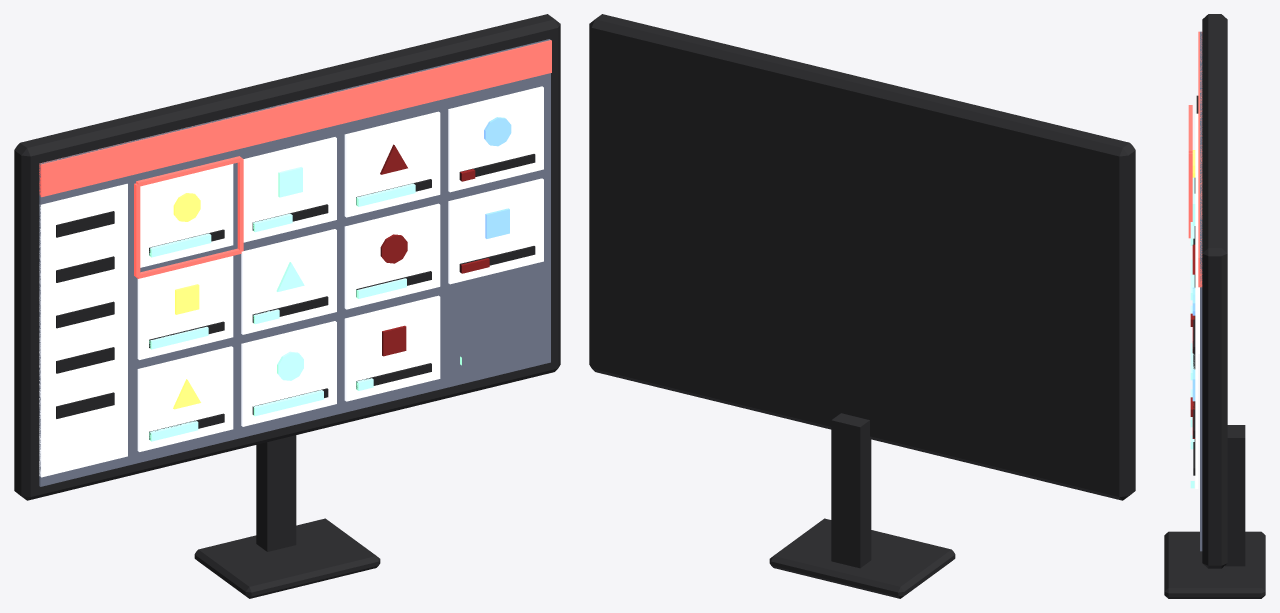
File: kitchenapp.glb
3 views of the same model, side by side, from view 1: azimuth 30°, elevation 25°; view 2: azimuth 150°, elevation 25°; view 3: azimuth 270°, elevation 25° (orthographic). The views are drawn at different scales.
Parts seen in each view (by area): view 1: stock_monitor, stock_card_10, stock_card_3, stock_card_5, stock_card_7, stock_card_6, stock_card_8, stock_card_2, stock_card_1, stock_card_4, stock_card_9, stock_card_0 (+2 smaller); view 2: stock_monitor; view 3: stock_monitor, stock_select, stock_card_3, stock_card_7, stock_card_1, stock_card_2, stock_card_0, stock_card_10.
Boxes of the visible parts, bbox=[...] form: stock_monitor: bbox=[14, 14, 560, 598]; stock_card_10: bbox=[344, 295, 440, 401]; stock_card_3: bbox=[448, 86, 543, 192]; stock_card_5: bbox=[241, 229, 336, 334]; stock_card_7: bbox=[448, 178, 543, 284]; stock_card_6: bbox=[344, 203, 440, 309]; stock_card_8: bbox=[137, 346, 233, 451]; stock_card_2: bbox=[344, 111, 440, 217]; stock_card_1: bbox=[243, 137, 336, 242]; stock_card_4: bbox=[137, 256, 233, 359]; stock_card_9: bbox=[241, 321, 336, 426]; stock_card_0: bbox=[140, 164, 233, 267]; stock_monitor: bbox=[589, 14, 1135, 598]; stock_monitor: bbox=[1164, 14, 1265, 598]; stock_select: bbox=[1188, 105, 1192, 238]; stock_card_3: bbox=[1192, 251, 1198, 367]; stock_card_7: bbox=[1192, 367, 1198, 451]; stock_card_1: bbox=[1192, 159, 1198, 244]; stock_card_2: bbox=[1192, 205, 1198, 287]; stock_card_0: bbox=[1192, 113, 1198, 193]; stock_card_10: bbox=[1192, 417, 1198, 488].
Bounding box in the file's own units: 0.56 × 0.48 × 0.1.
